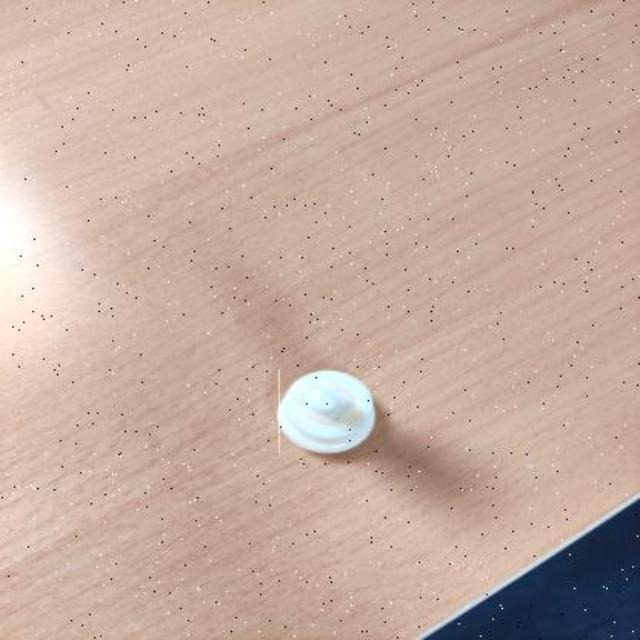white-king: (278, 368, 378, 455)
